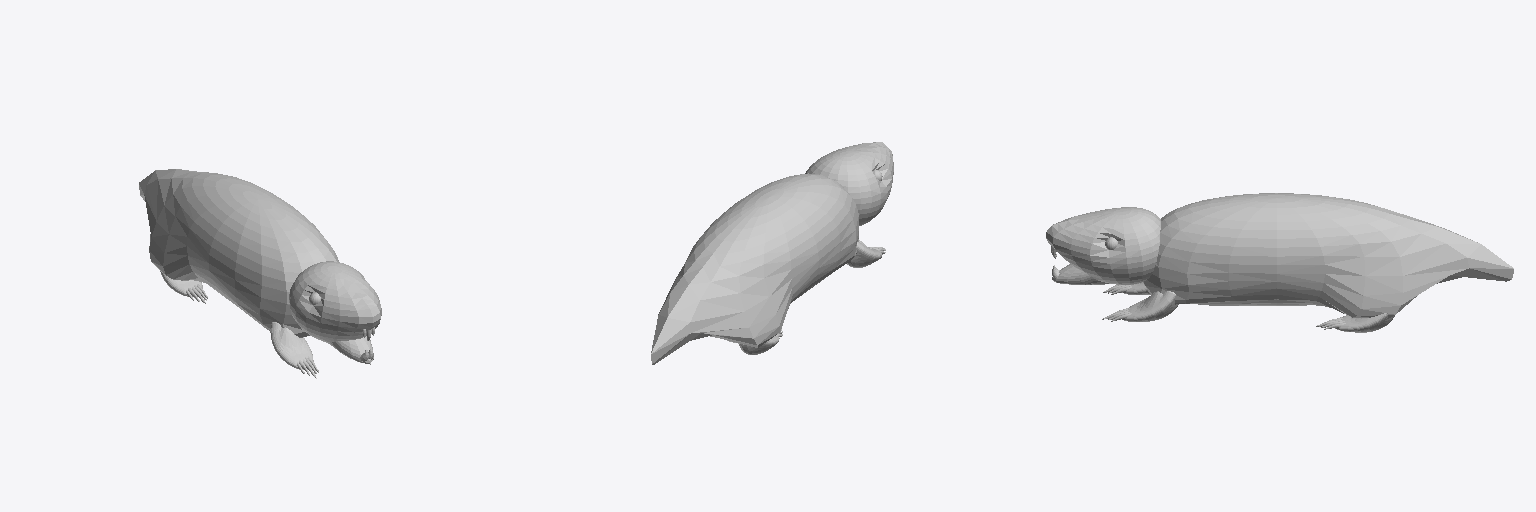
The model's file is MoleRat.obj.
The picture shows the model from 3 angles: view 1: azimuth 30°, elevation 25°; view 2: azimuth 150°, elevation 25°; view 3: azimuth 270°, elevation 25°; orthographic projection.
Parts seen in each view (by area): view 1: polySurface2; view 2: polySurface2; view 3: polySurface2.
Boxes of the visible parts, <box> form: polySurface2: <box>139,169,381,378</box>; polySurface2: <box>651,142,893,364</box>; polySurface2: <box>1046,193,1513,332</box>.
Bounding box in the file's own units: 2.84 × 3 × 11.07.